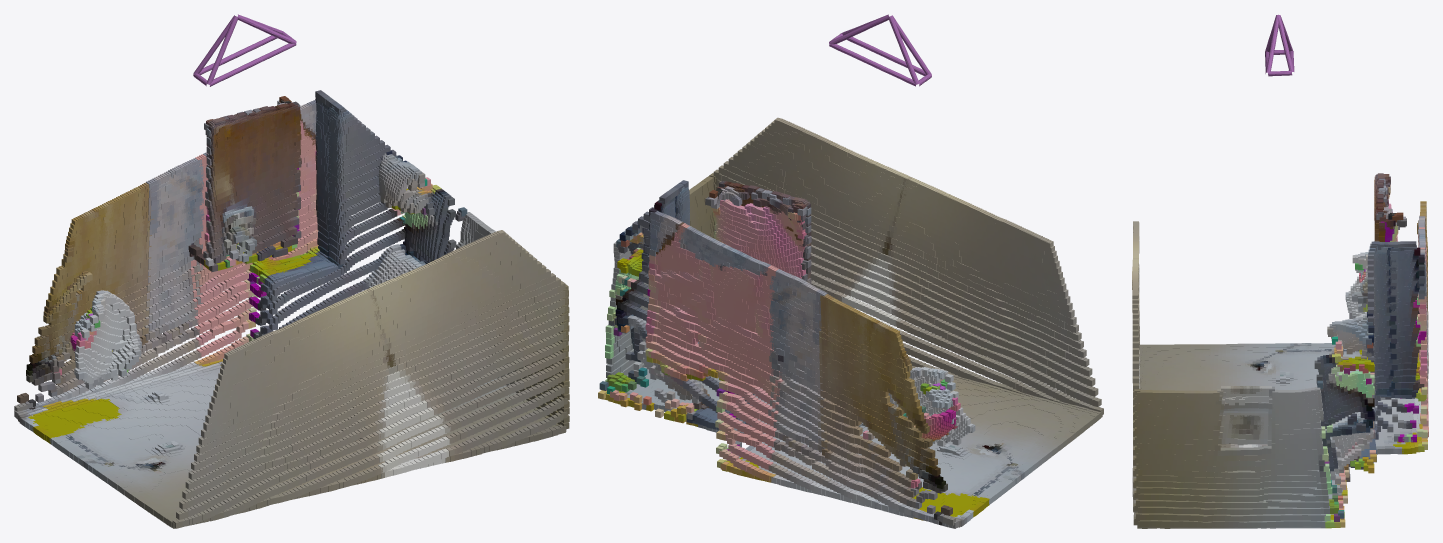
3 renders of one model, left to right at view 1: azimuth 30°, elevation 25°; view 2: azimuth 150°, elevation 25°; view 3: azimuth 270°, elevation 25°, orthographic. The views are drawn at different scales.
Size of the model in its own units: 3.63 by 3.72 by 2.47.
